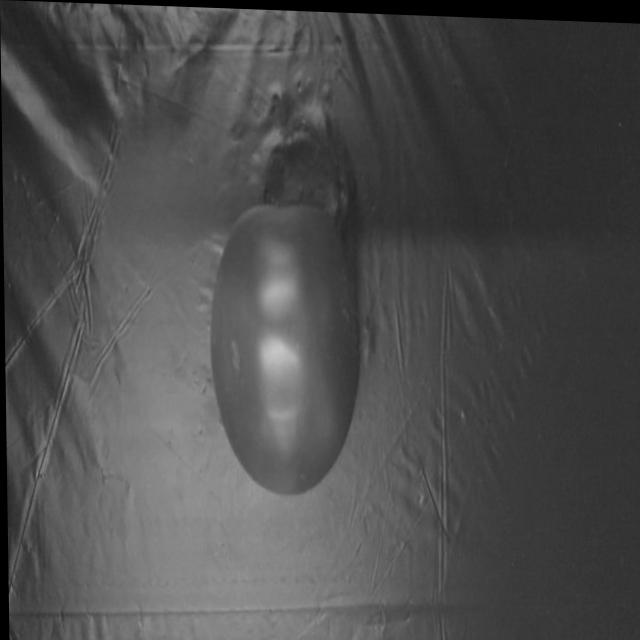kirmizi: (206, 191, 364, 504)
